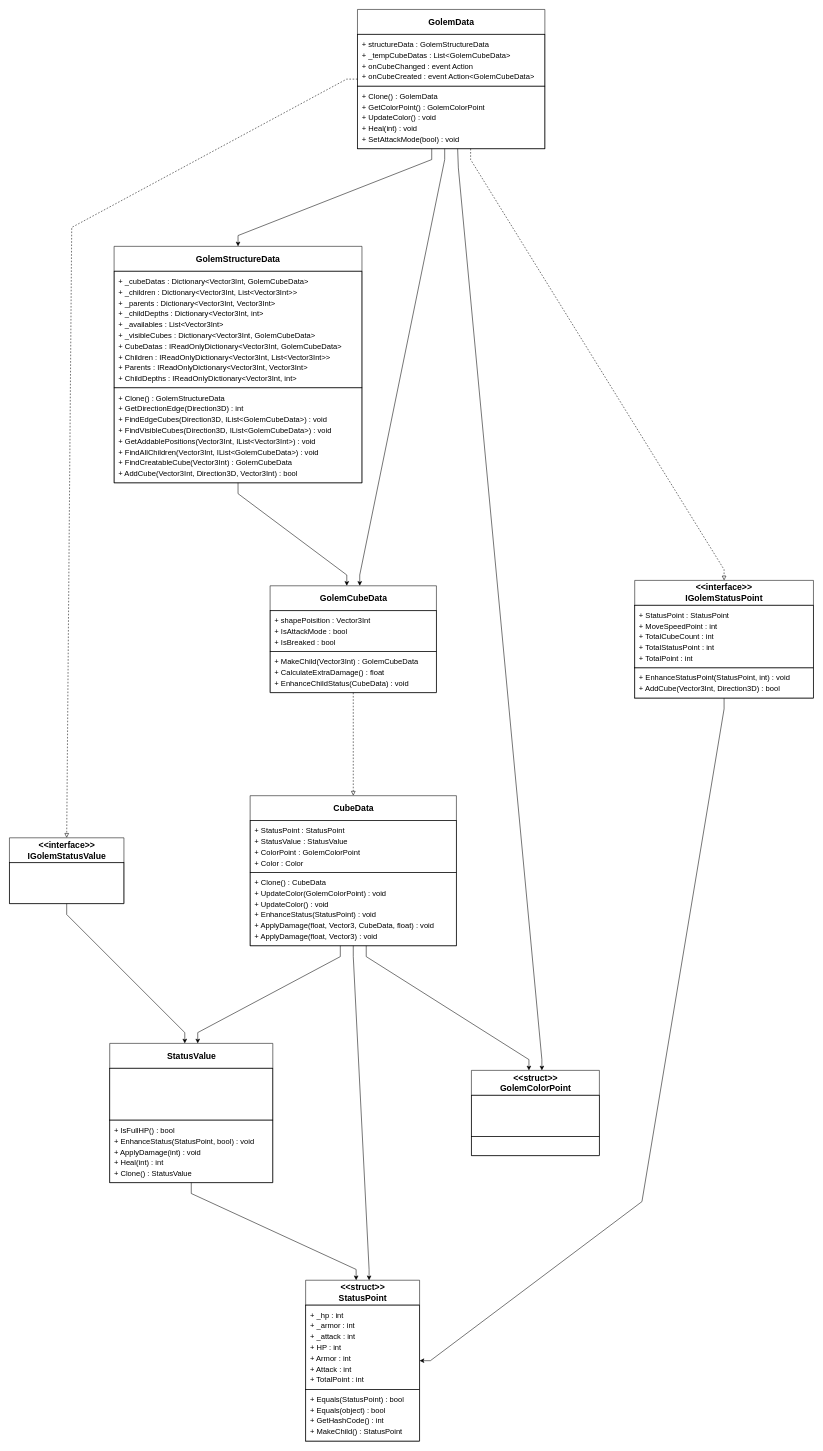
The diagram is 823 pixels wide and 1451 high, and some of its shapes have lost their labels. Here are the shapes that lost their labels. From the top down, the centre of each, then its label:
At point 66,883: "+ StatusValue : StatusValue + MoveSpeed : int + CurrentCubeCount : int".
At point 191,1094: "+ MaxHP : int + HP : int + Armor : int + Attack : int".
At point 535,1115: "+ r : int + g : int + b : int".
At point 535,1146: "+ MakeChild() : GolemColorPoint".
